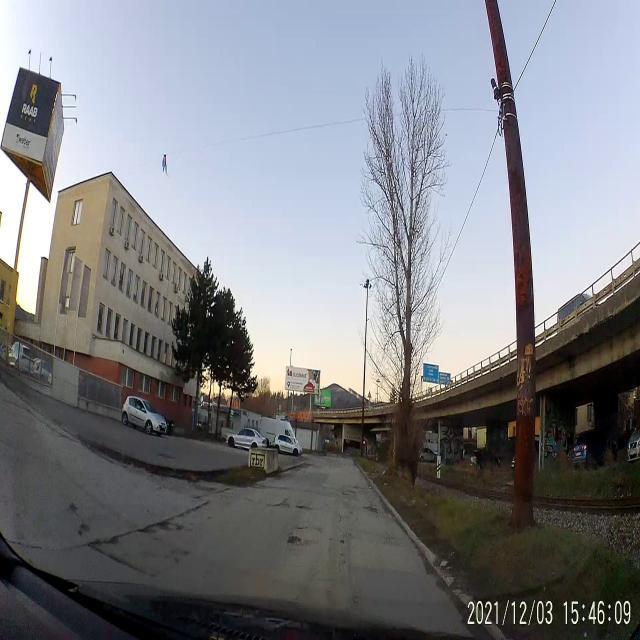Pothole: (86, 536, 128, 565), (136, 518, 172, 536), (266, 496, 289, 511), (362, 498, 379, 518), (286, 532, 302, 546), (294, 504, 310, 514)
